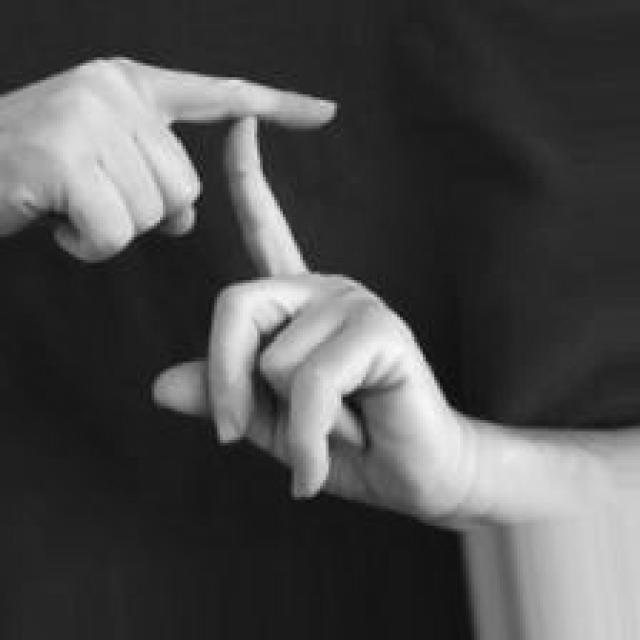T: (1, 44, 478, 526)
